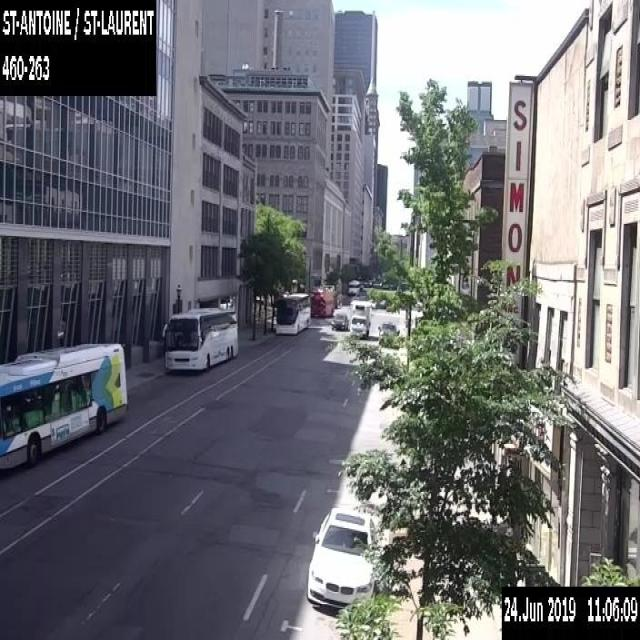bus: (0, 343, 128, 476), (161, 305, 239, 372), (274, 291, 311, 334), (309, 285, 334, 317)
vehicle: (305, 506, 380, 610), (349, 299, 371, 337), (377, 320, 399, 344), (330, 311, 349, 329), (371, 294, 386, 308), (348, 279, 360, 295)
